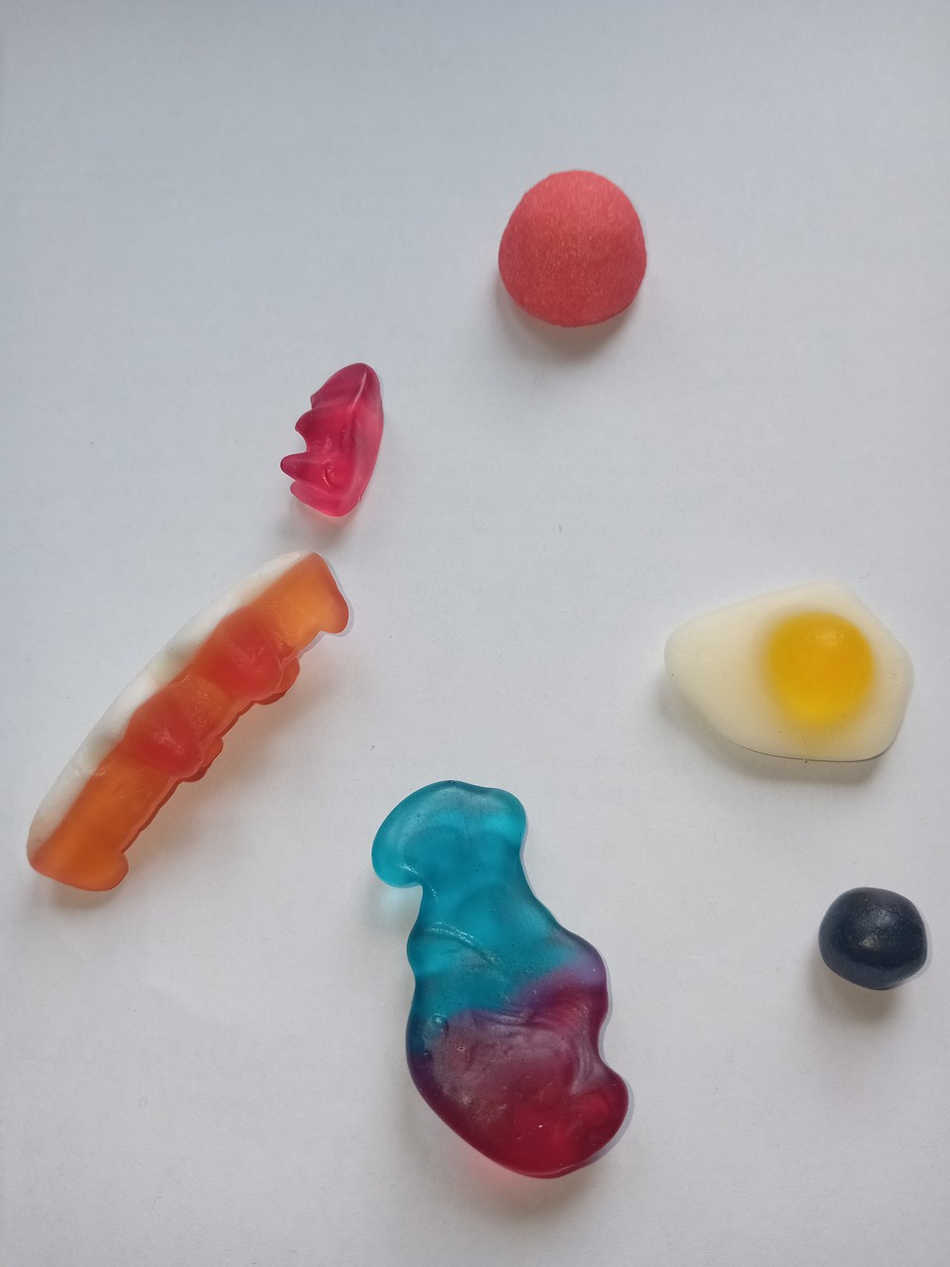crocodile_orange: (20, 542, 353, 898)
dragibus_noir: (810, 880, 934, 992)
oeuf_oeuf: (650, 572, 925, 774)
ourson_rouge: (272, 351, 392, 520)
schtroumpf_bleu-rouge: (362, 768, 639, 1188)
tagada_fraise: (491, 164, 651, 333)
